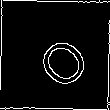O_NW: (21, 22, 89, 88)
